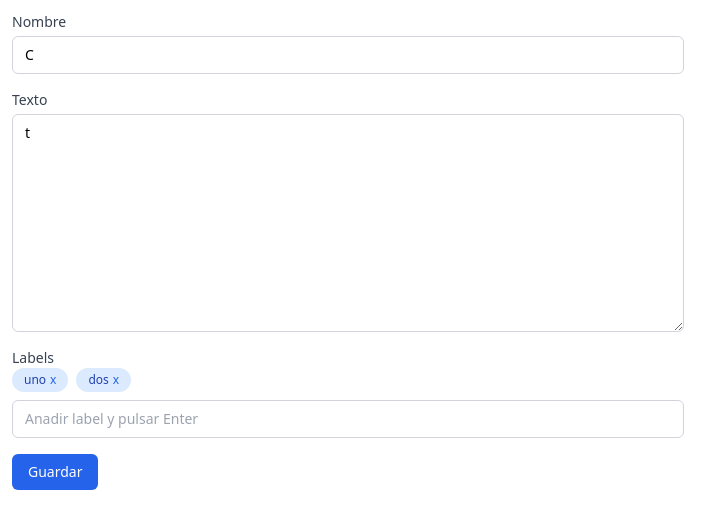
ClausulaForm › removes a label chip when clicking its remove button
Check: the text "uno" is shown, box [24,371,46,388]
Click the button named "Eliminar label uno". click: point(53, 380)
box: [50,372,56,388]
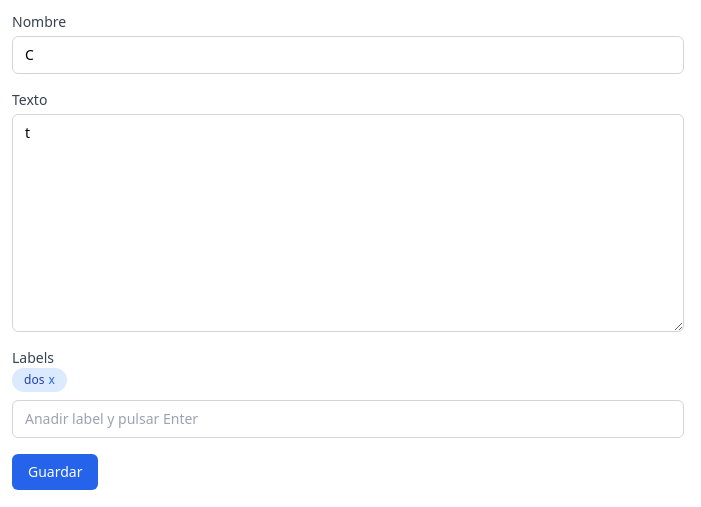
Check: the text "dos" is shown, box [24,371,44,388]
Check: the text "uno" is gone
